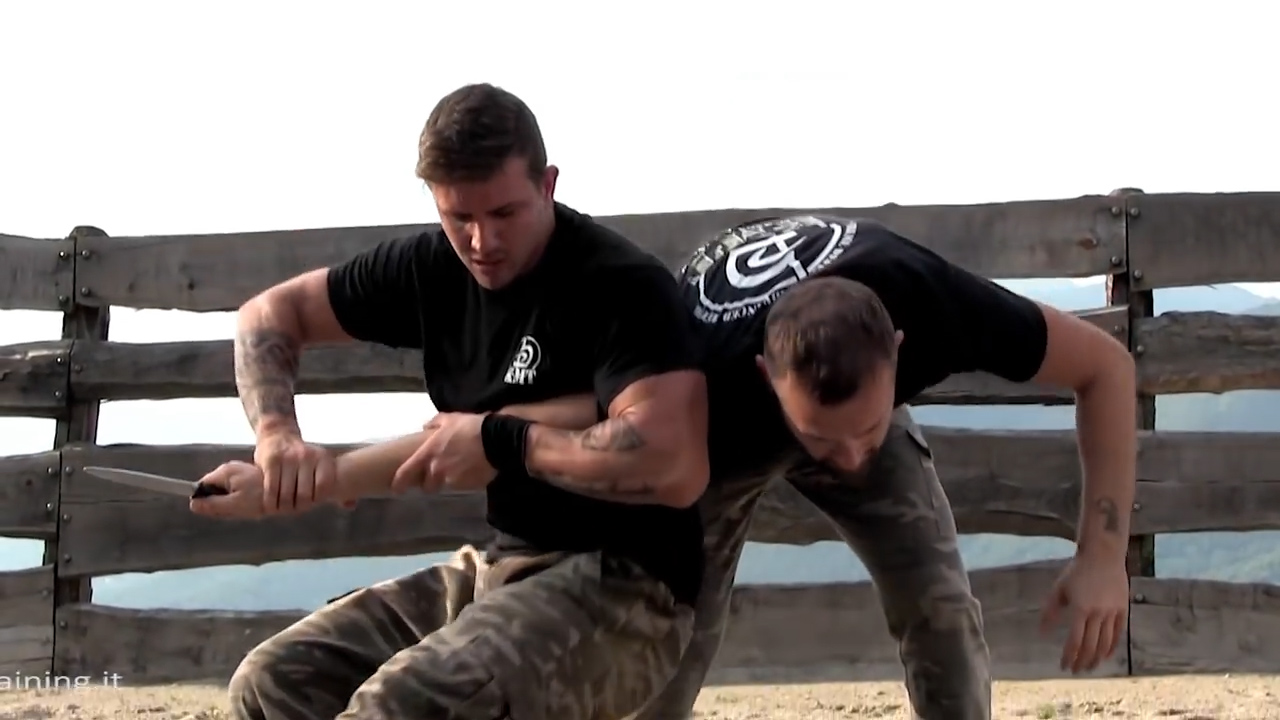knife: (74, 453, 254, 531)
